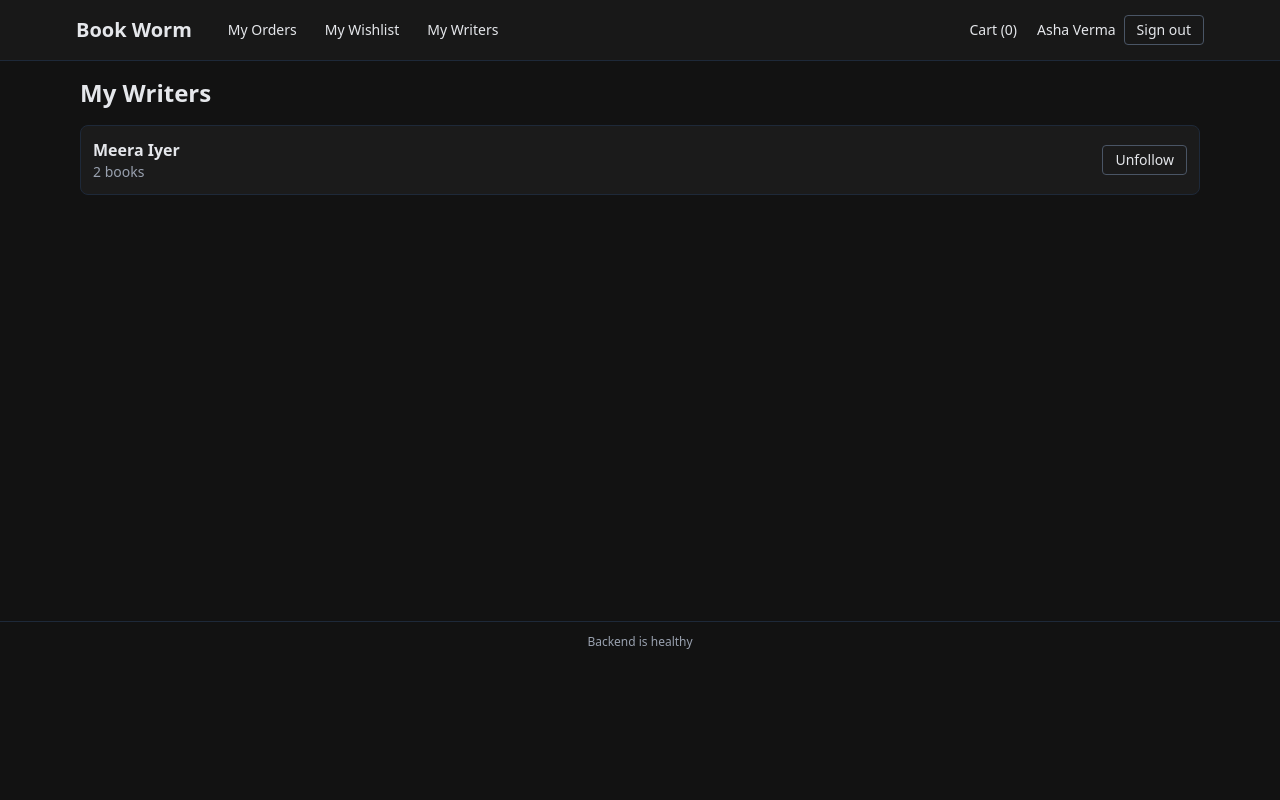
Scenario: My Writers page › unfollows a writer
Click the button with aria-label "Unfollow Meera Iyer".
click(1145, 160)  # box [1102,145,1187,175]
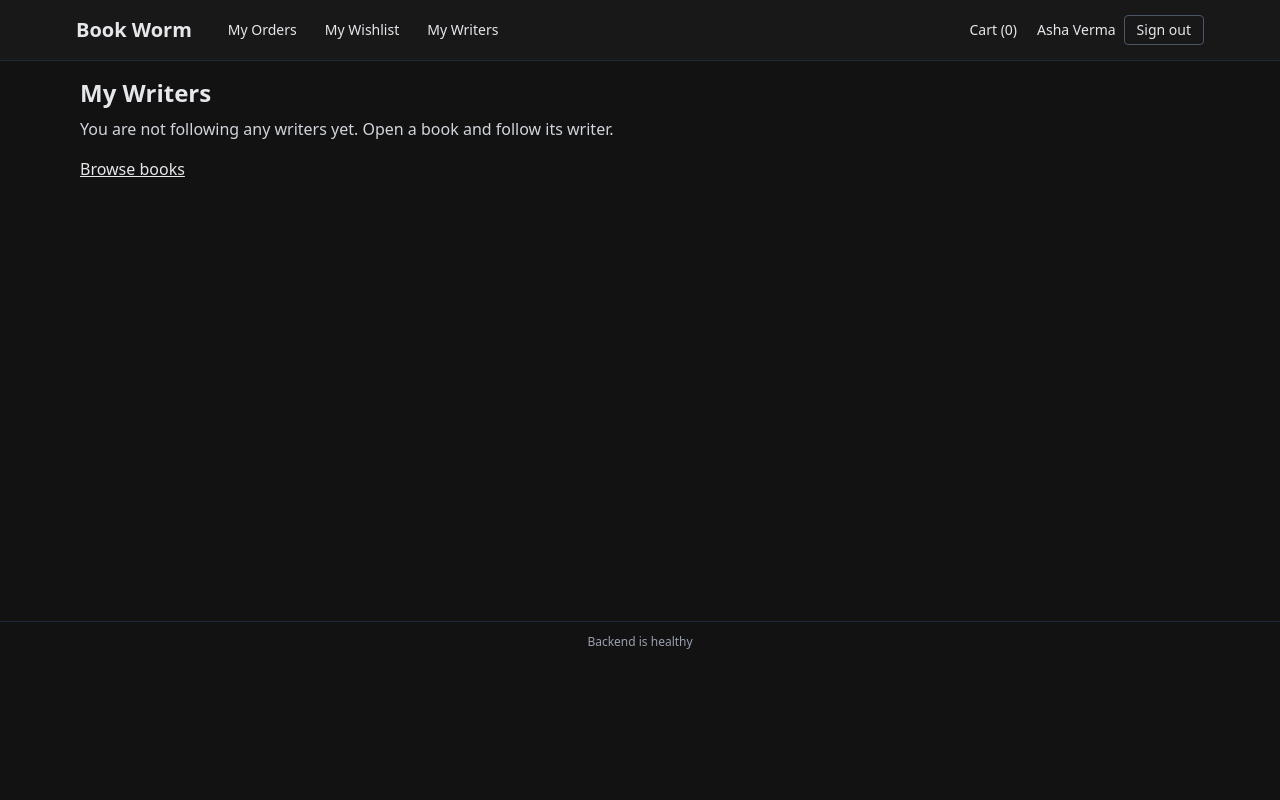
Expected: the text "not following any writers yet" is shown, [80,118,614,140]
